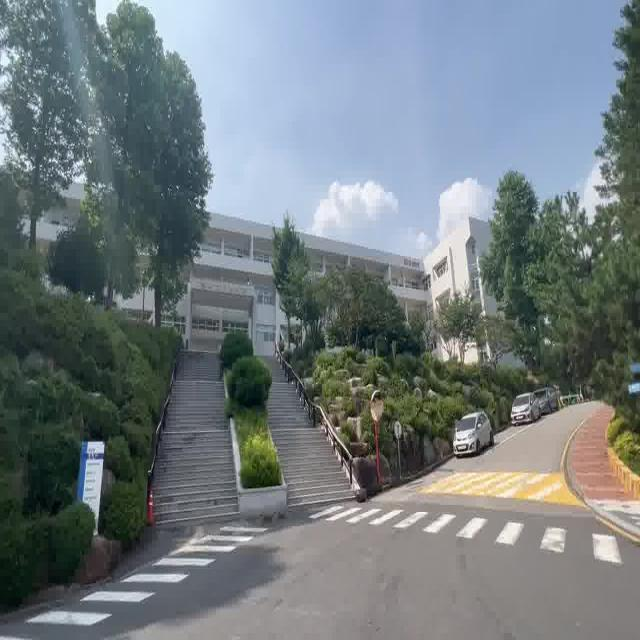building: (196, 198, 274, 342)
